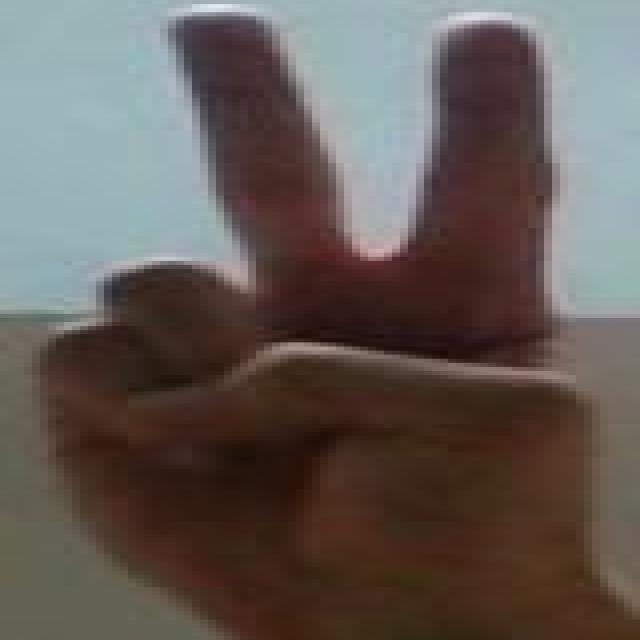V: (0, 0, 640, 613)
